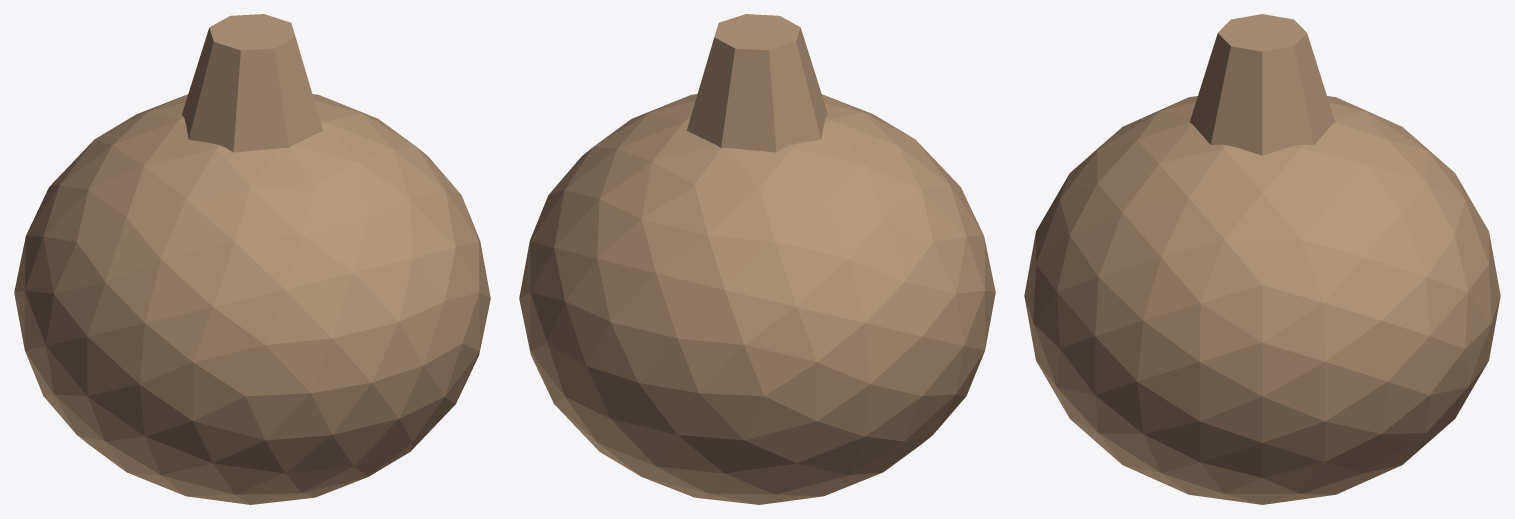
File: sack.glb
The picture shows the model from 3 angles, left to right: view 1: azimuth 30°, elevation 25°; view 2: azimuth 150°, elevation 25°; view 3: azimuth 270°, elevation 25°; orthographic projection.
Visible parts, largest first — view 1: sack_00, sack_01; view 2: sack_00, sack_01; view 3: sack_00, sack_01.
Boxes of the visible parts, box(x1,y1,x2,y2) form: sack_00: box(14, 94, 490, 504); sack_01: box(182, 14, 322, 152); sack_00: box(519, 94, 995, 504); sack_01: box(687, 14, 827, 152); sack_00: box(1024, 96, 1500, 504); sack_01: box(1190, 14, 1334, 155).
Size of the model in its own units: 0.64 by 0.662 by 0.64.
